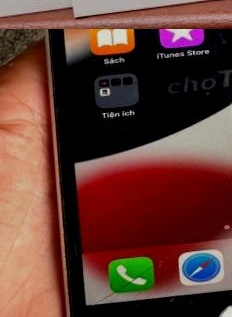physical_damage: (35, 45, 232, 317)
